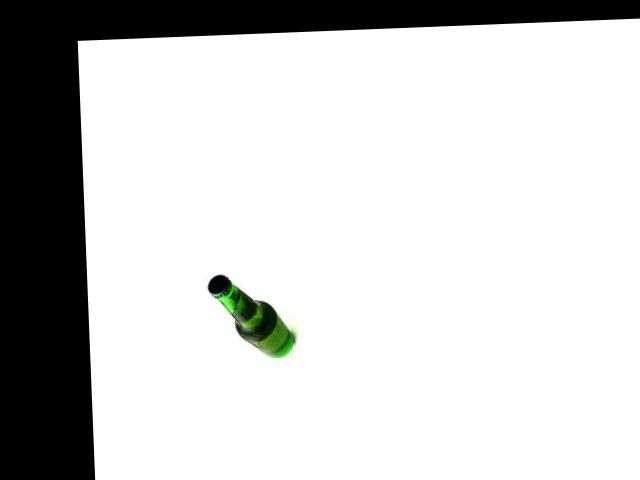beer: (207, 271, 295, 360)
